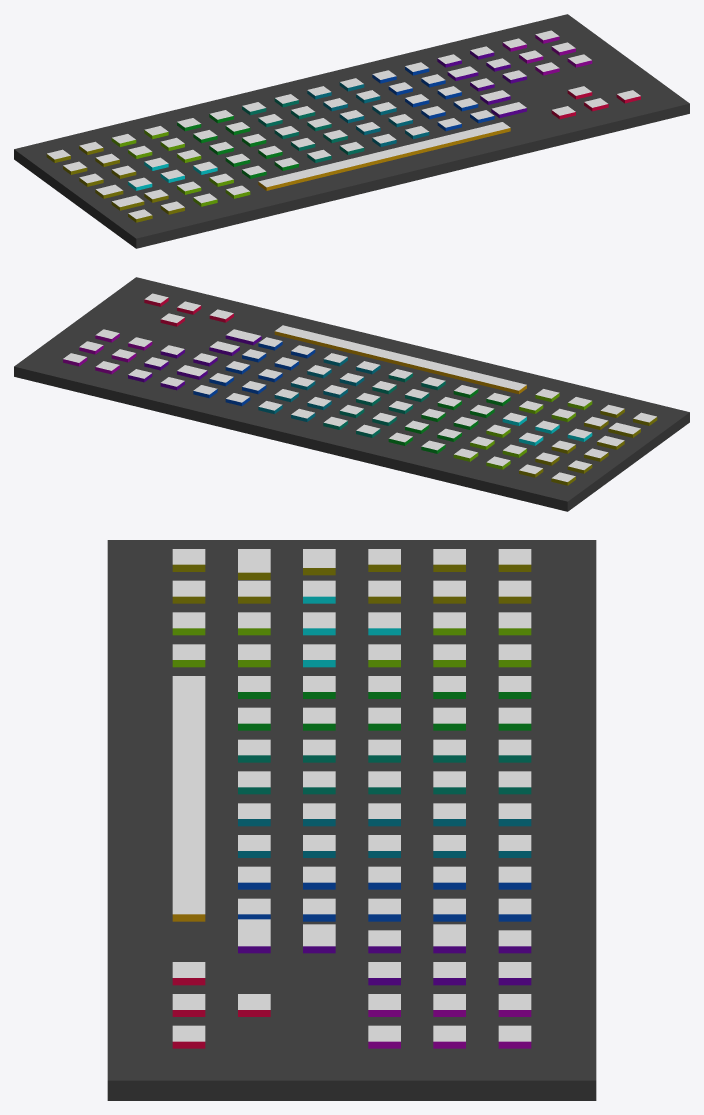
The model's file is SM_Teclado_Gaming.fbx.
3 views of the same model, one above another, from view 1: azimuth 30°, elevation 25°; view 2: azimuth 150°, elevation 25°; view 3: azimuth 270°, elevation 25° (orthographic). The views are drawn at different scales.
Visible parts, largest first — view 1: pCube1; view 2: pCube1; view 3: pCube1.
Boxes of the visible parts, x1,y1,x2,y2 form: pCube1: (14,14,689,248); pCube1: (14,277,689,511); pCube1: (107,540,596,1100).
Bounding box in the file's own units: 210 × 5.05 × 80.16.
